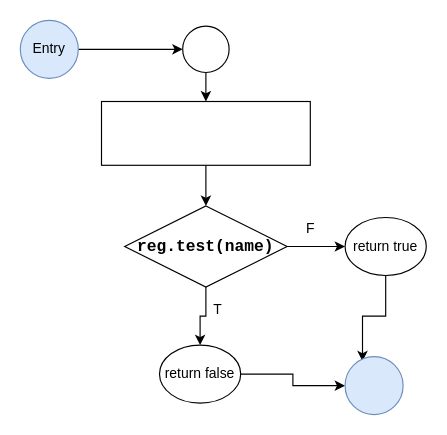
The diagram is 447 pixels wide and 435 high, and some of its shapes have lost their labels. The shapes that lost their labels are listed below. From the top down, each one's centre as x and y in pixels, then its label:
pixel 205 132: var fullName = $('id').val(); const reg;
pixel 373 385: Exit
